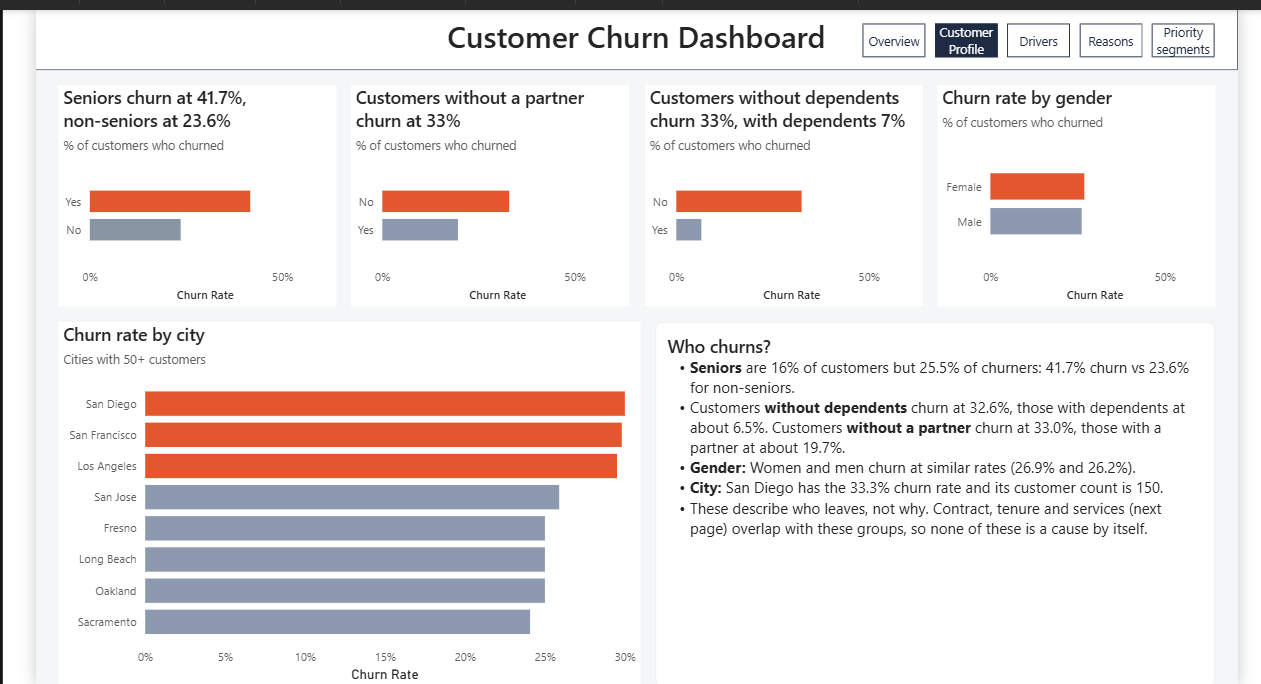

What the dashboard file says about the page in this screenshot:
{"tool":"powerbi","page":{"name":"Customer Profile","canvas":[1280,720],"ordinal":1},"visuals":[{"type":"shape","box":[0,0,1280,64],"z":0},{"type":"textbox","box":[0,0,1279,63],"z":1000},{"type":"pageNavigator","box":[880,14.4,376,36],"z":2000},{"type":"barChart","title":"Seniors churn at 41.7%, non-seniors at 23.6%","fields":{"Category":["Customers.senior_citizen"],"Y":["Customers.Churn Rate"]},"box":[24,80,296,236],"z":3000},{"type":"barChart","title":"Customers without a partner churn at 33.0%, with a partner at 19.7%","fields":{"Category":["Customers.partner"],"Y":["Customers.Churn Rate"]},"box":[336,80,296,236],"z":4000},{"type":"barChart","title":"Customers without dependents churn at 32.6%, with dependents at 6.5%","fields":{"Category":["Customers.dependents"],"Y":["Customers.Churn Rate"]},"box":[648,80,296,236],"z":5000},{"type":"barChart","title":"Women and men churn at similar rates (26.9% vs 26.2%)","fields":{"Category":["Customers.gender"],"Y":["Customers.Churn Rate"]},"box":[960,80,296,236],"z":6000},{"type":"barChart","title":"Churn rate by city","fields":{"Category":["Customers.city"],"Y":["Customers.Churn Rate"]},"box":[24,332.3,619.9,388.2],"z":7000},{"type":"textbox","box":[659.8,332.3,595.9,388.2],"z":8000}]}

Visuals, with their boxes on the page's 1280x720 design canvas (x1, y1, x2, y2). These are canvas units, not pixel positions in the 1261x684 screenshot, which may show the page scaled, cropped or inside an application window:
shape: BBox(0, 0, 1280, 64)
textbox: BBox(0, 0, 1279, 63)
pageNavigator: BBox(880, 14, 1256, 50)
"Seniors churn at 41.7%, non-seniors at 23.6%" barChart: BBox(24, 80, 320, 316)
"Customers without a partner churn at 33.0%, with a partner at 19.7%" barChart: BBox(336, 80, 632, 316)
"Customers without dependents churn at 32.6%, with dependents at 6.5%" barChart: BBox(648, 80, 944, 316)
"Women and men churn at similar rates (26.9% vs 26.2%)" barChart: BBox(960, 80, 1256, 316)
"Churn rate by city" barChart: BBox(24, 332, 644, 720)
textbox: BBox(660, 332, 1256, 720)
